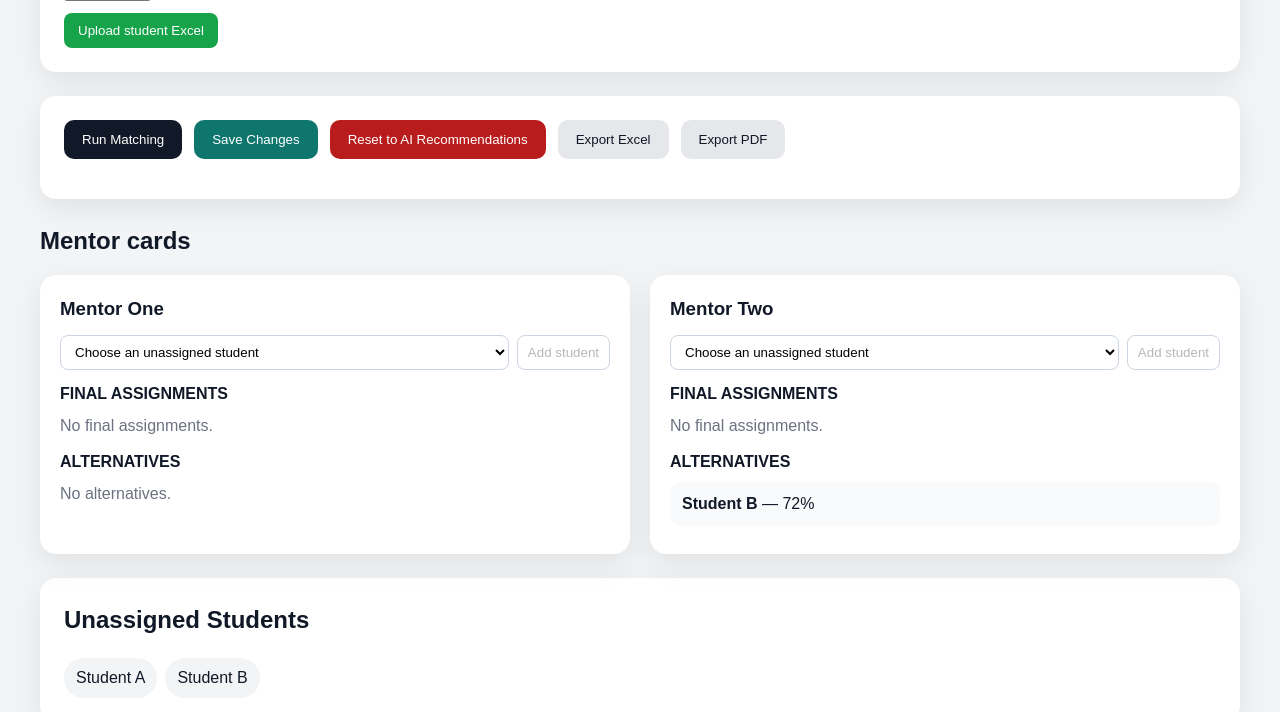
Test case: MatchingDashboard › requires an explicit student choice and assigns different students to different mentors
The width and height of the screenshot is (1280, 712).
(page scrolled)
Expected: the heading "Mentor One" is shown, [60,295,164,323]
Expected: the 1st button "Add student" is disabled, [517,335,610,370]
Select "S002 — Student B" in the dropdown named "Choose unassigned student for Mentor One" at coordinates (284, 352), box [60,335,509,370]
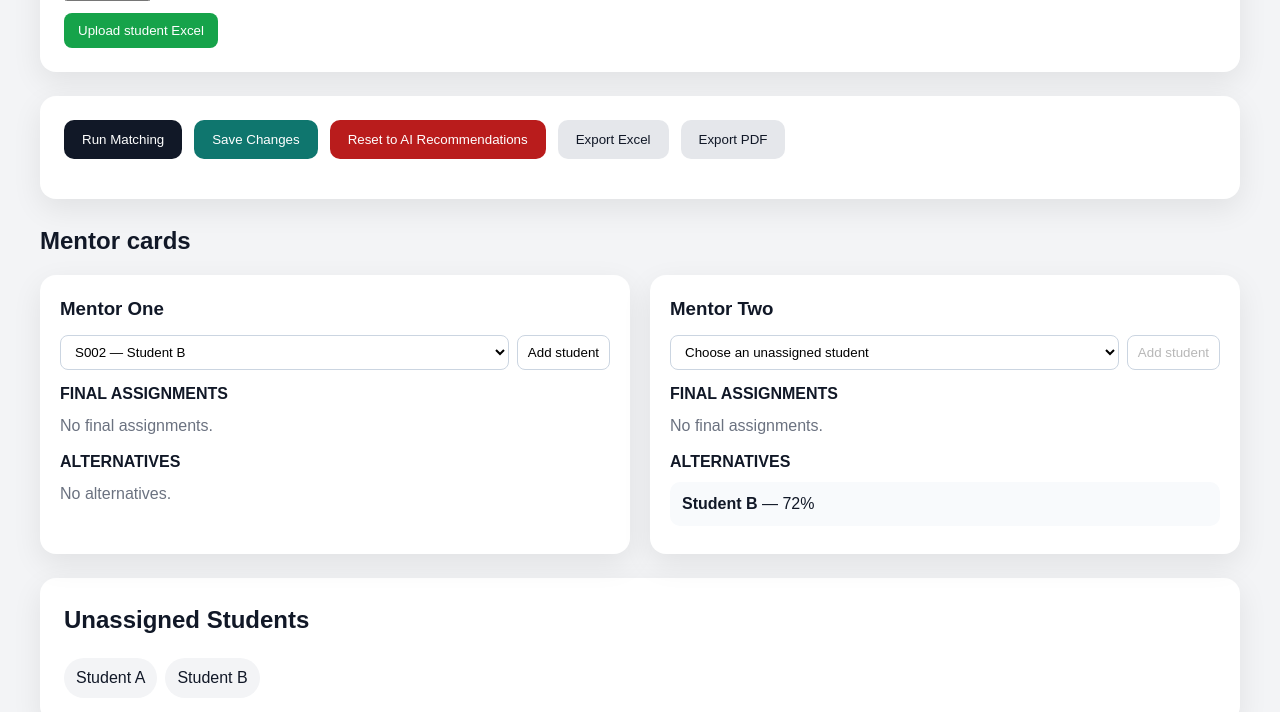
Click the 1st button "Add student" at coordinates (563, 352), box [517,335,610,370]
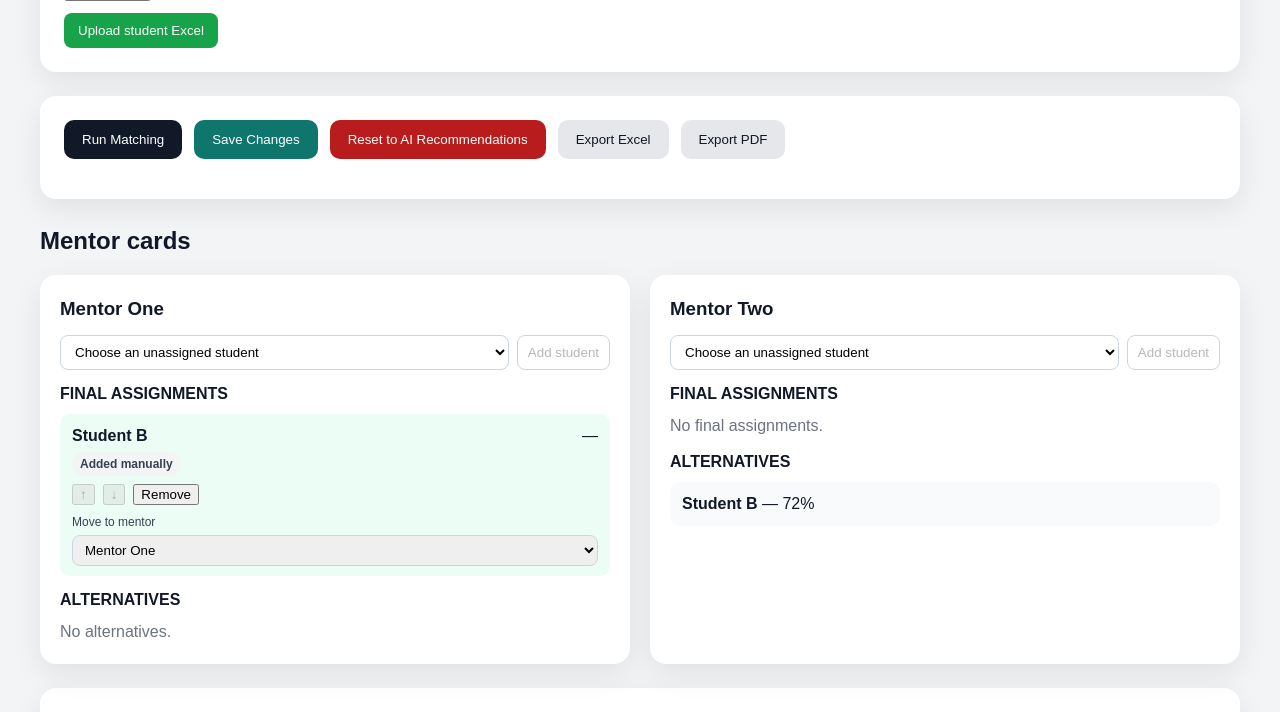
Expected: the text "Student B" below "Mentor One" is shown, [72,427,148,444]
Expected: the text "S002 — Student B" is not shown
Select "S001 — Student A" in the dropdown named "Choose unassigned student for Mentor Two" at coordinates (894, 352), box [670,335,1119,370]
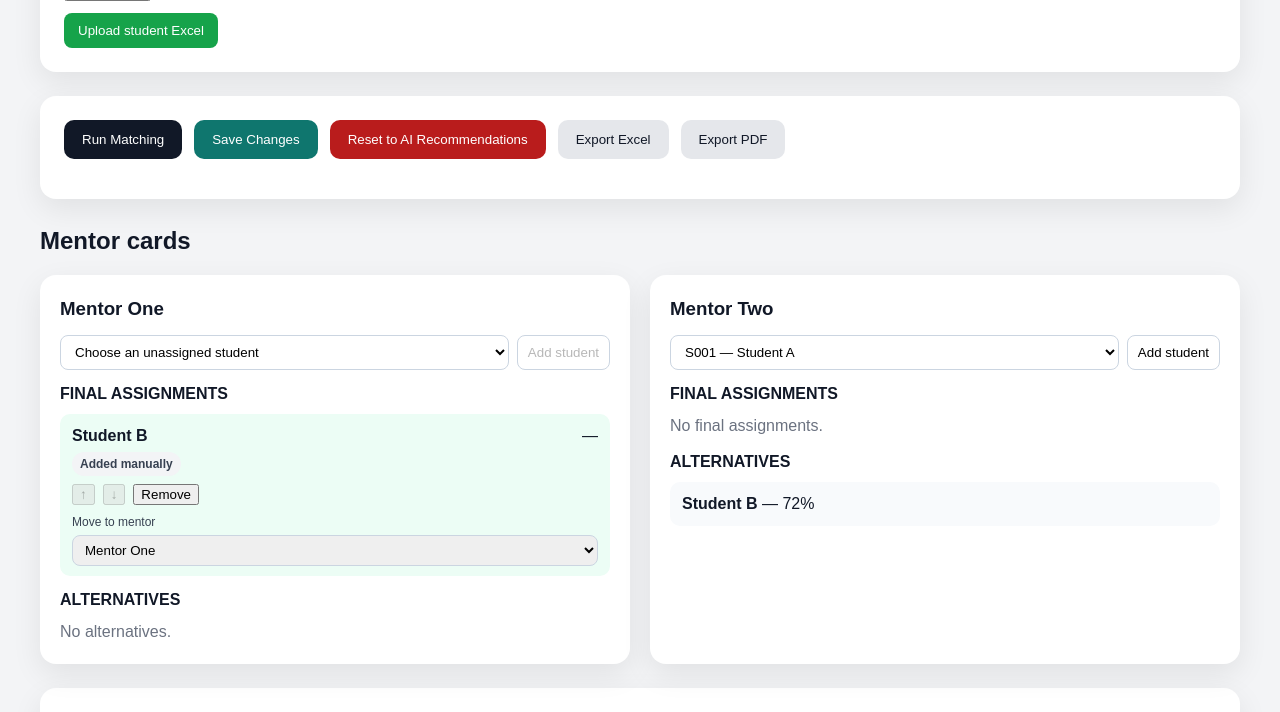
Click the 2nd button "Add student" at coordinates (1173, 352), box [1127,335,1220,370]
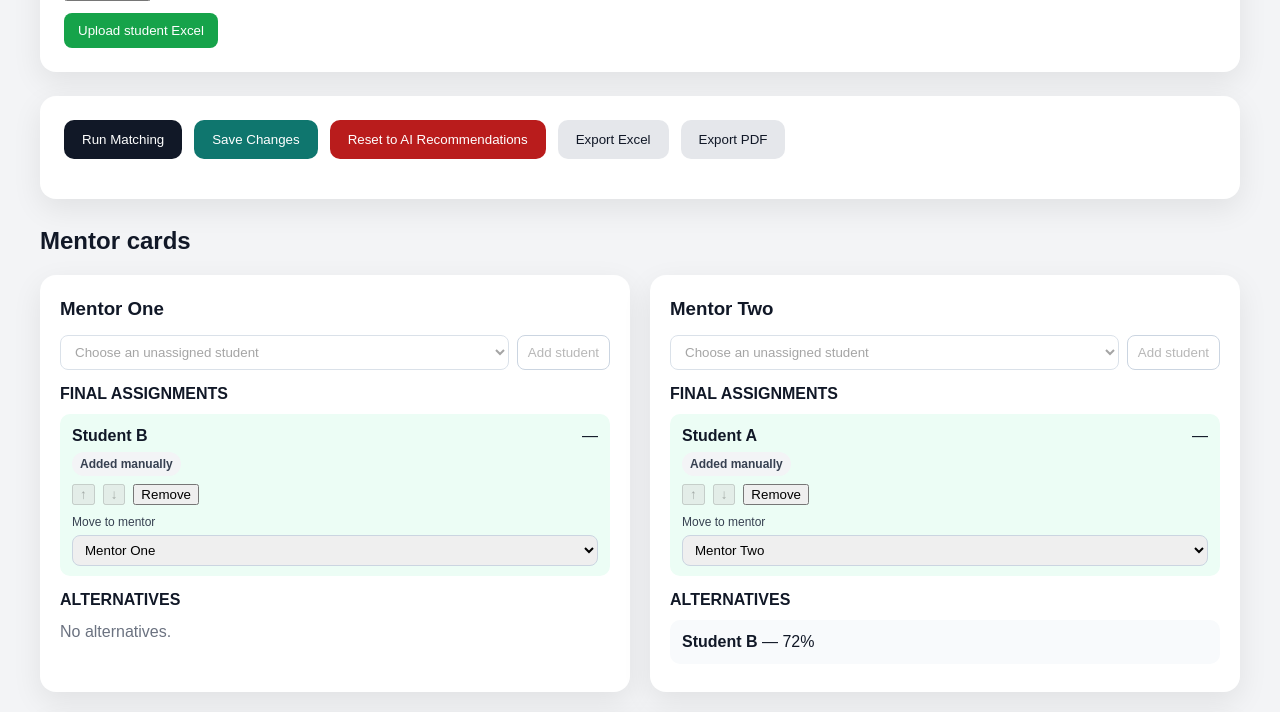
Expected: the text "Student B" below "Mentor One" is shown, [72,427,148,444]
Expected: the text "Student A" is shown once, [682,424,757,448]
Expected: the text "Added manually" below "Student A" is shown, [690,457,783,471]
